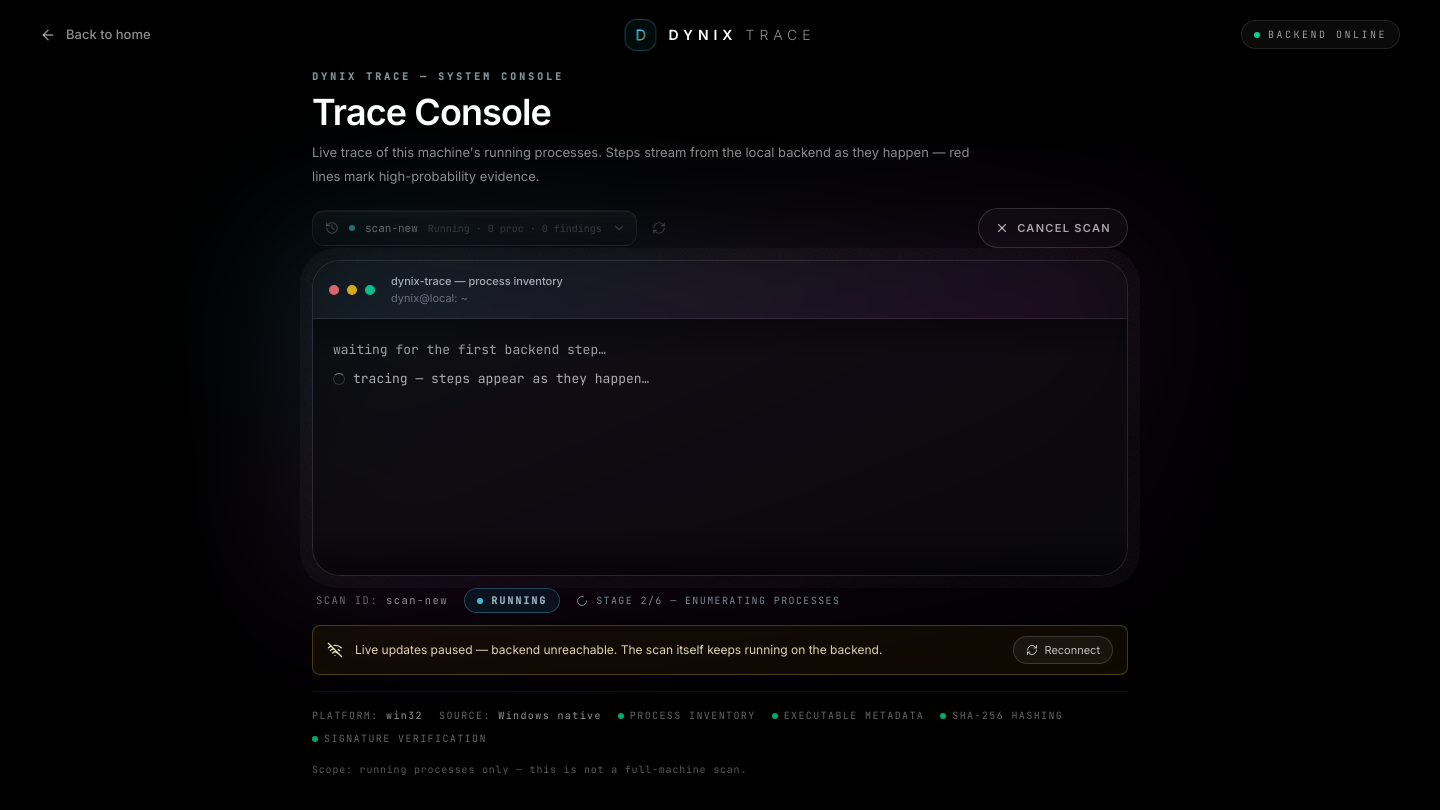
Test: ConsoleView live terminal › keeps polling failures non-destructive and recovers via Reconnect
Expected: the element with test id "terminal-busy" is shown, [333,370,649,387]
Expected: the message with test id "poll-degraded" is shown, [312,625,1128,675]
Click the button "Reconnect" at (1063, 650), box [1014,636,1113,664]
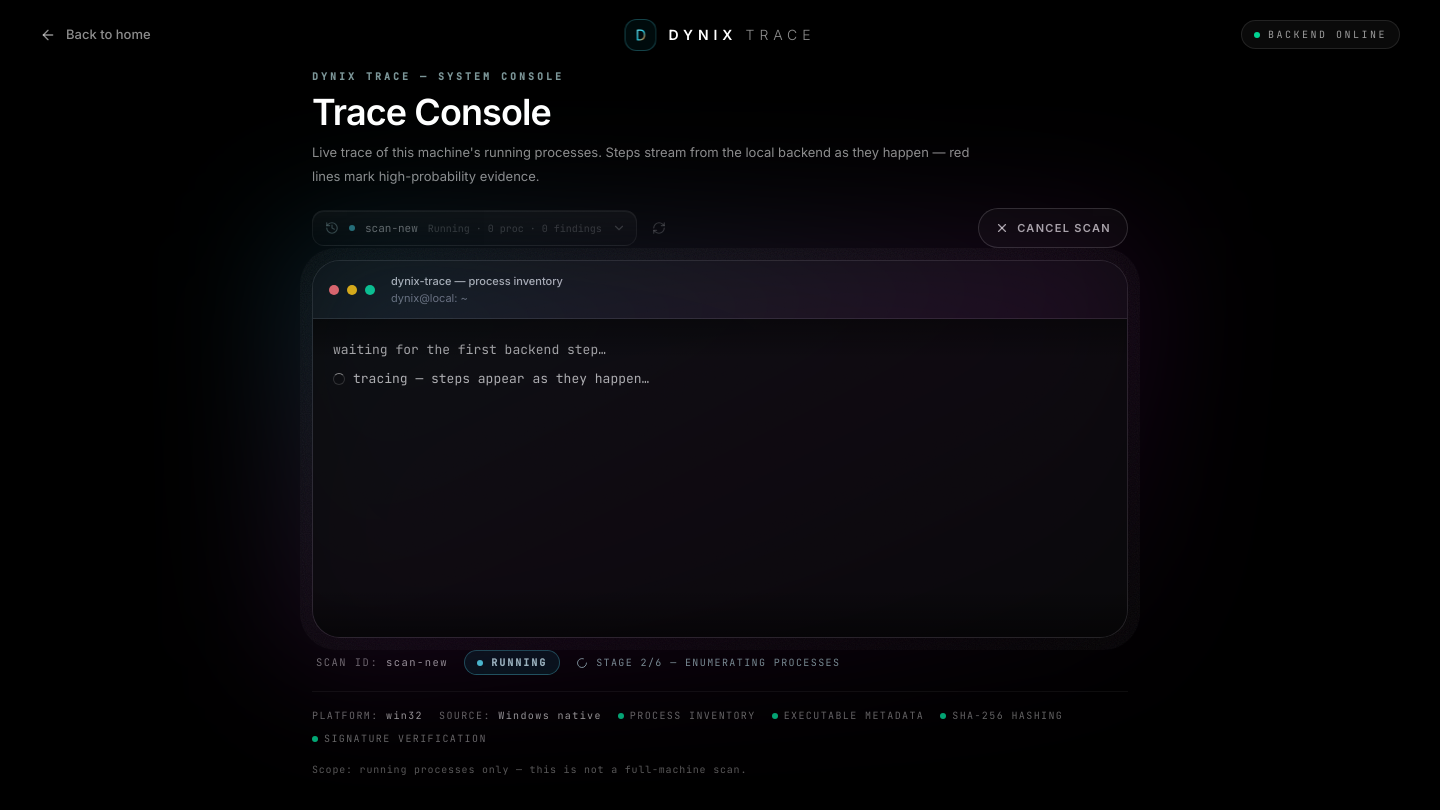
Expected: the message with test id "poll-degraded" is gone
